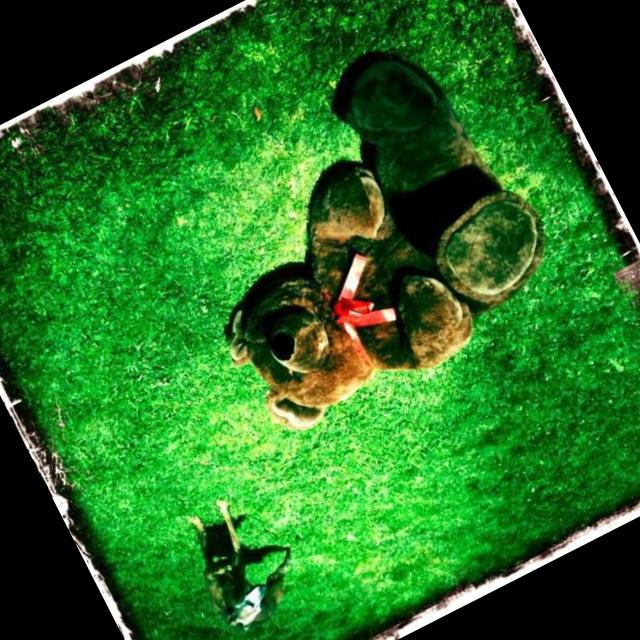dog: (168, 477, 316, 640)
teddy bear: (326, 26, 566, 330), (270, 128, 502, 396), (206, 254, 386, 446)
